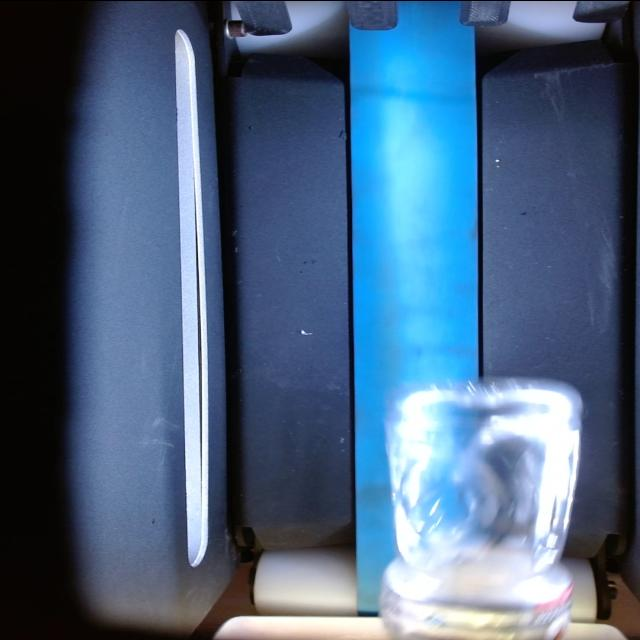bottom: (389, 378, 581, 563)
label: (382, 590, 569, 640)
